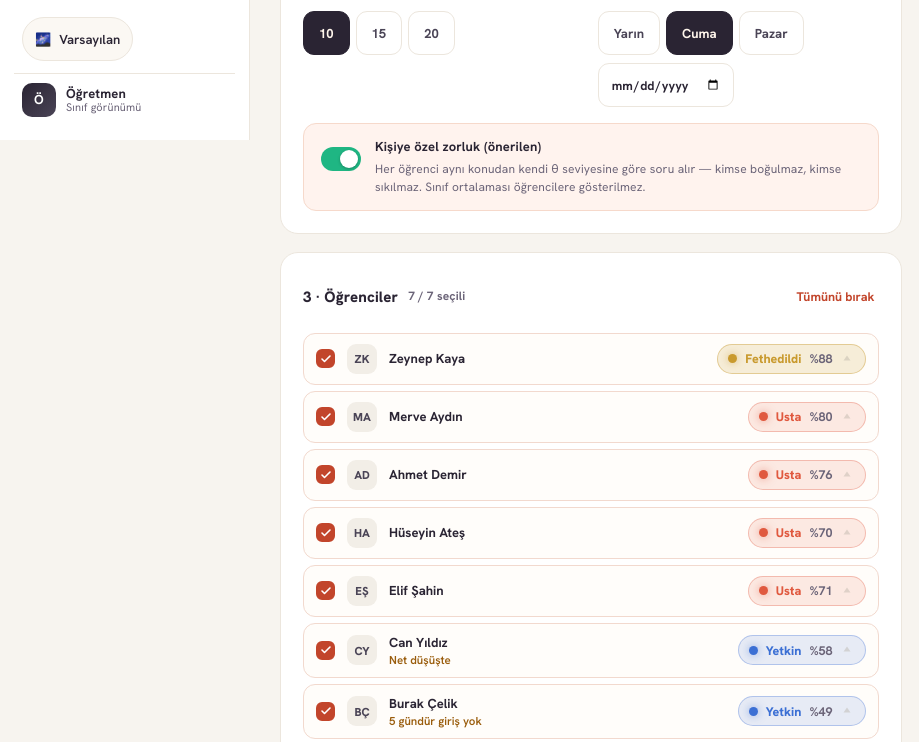
OdevAtamaPage › varsayılan tüm öğrenciler seçili → checkbox bırakınca sayaç düşer
(page scrolled)
Check: the text "7 / 7 seçili" is shown, box left=408, top=287, right=466, bottom=307
What coordinates should you click on to do the following:
click the checkbox labelled "ZK Zeynep Kaya Fethedildi %88"
I would click on:
 (427, 359)
Its box is left=303, top=333, right=879, bottom=385.
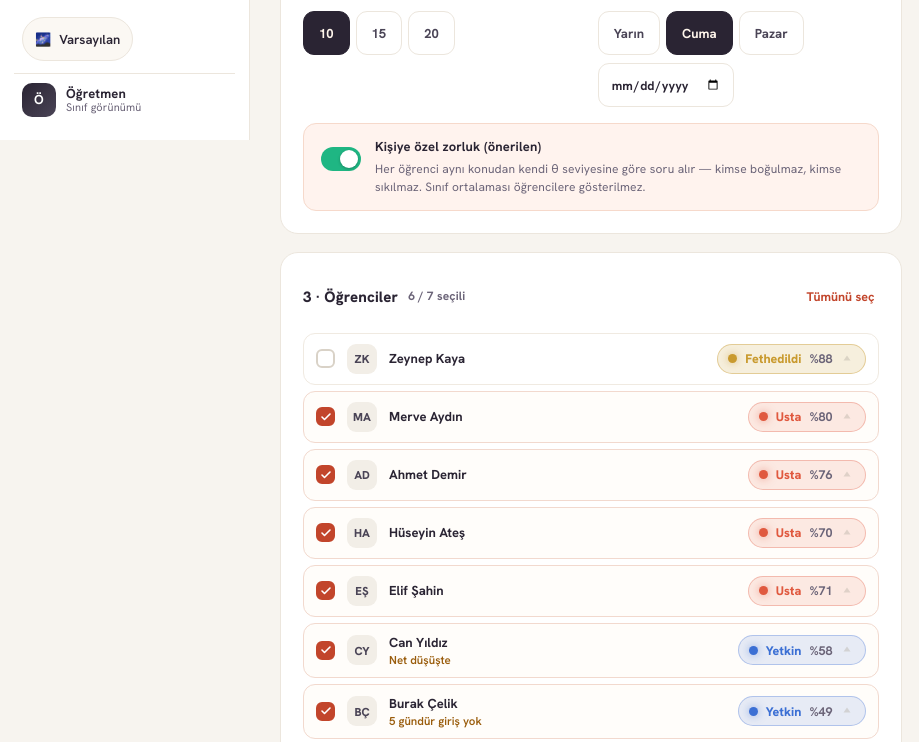
Check: the text "6 / 7 seçili" is shown, box left=408, top=287, right=466, bottom=307
